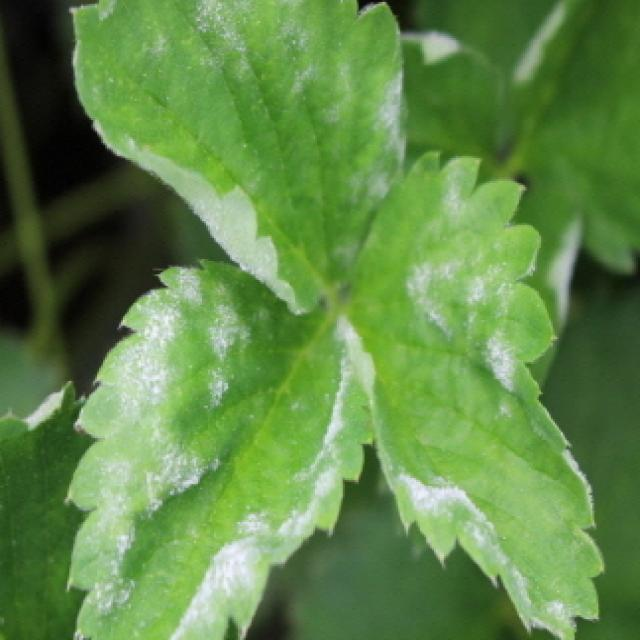Powdery Mildew Leaf: (334, 145, 606, 640), (65, 258, 375, 640), (64, 0, 405, 318)
